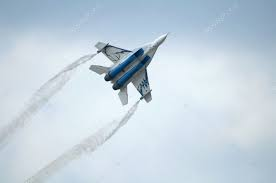plane: (88, 31, 169, 105)
